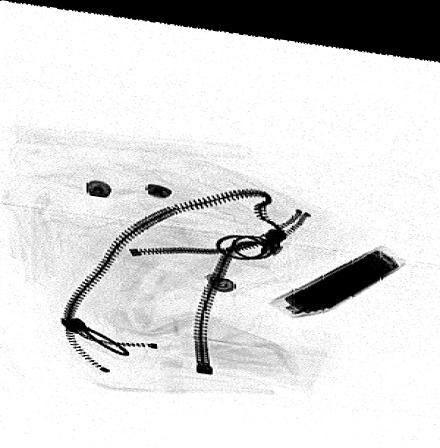Powerbank: (269, 234, 406, 311)
